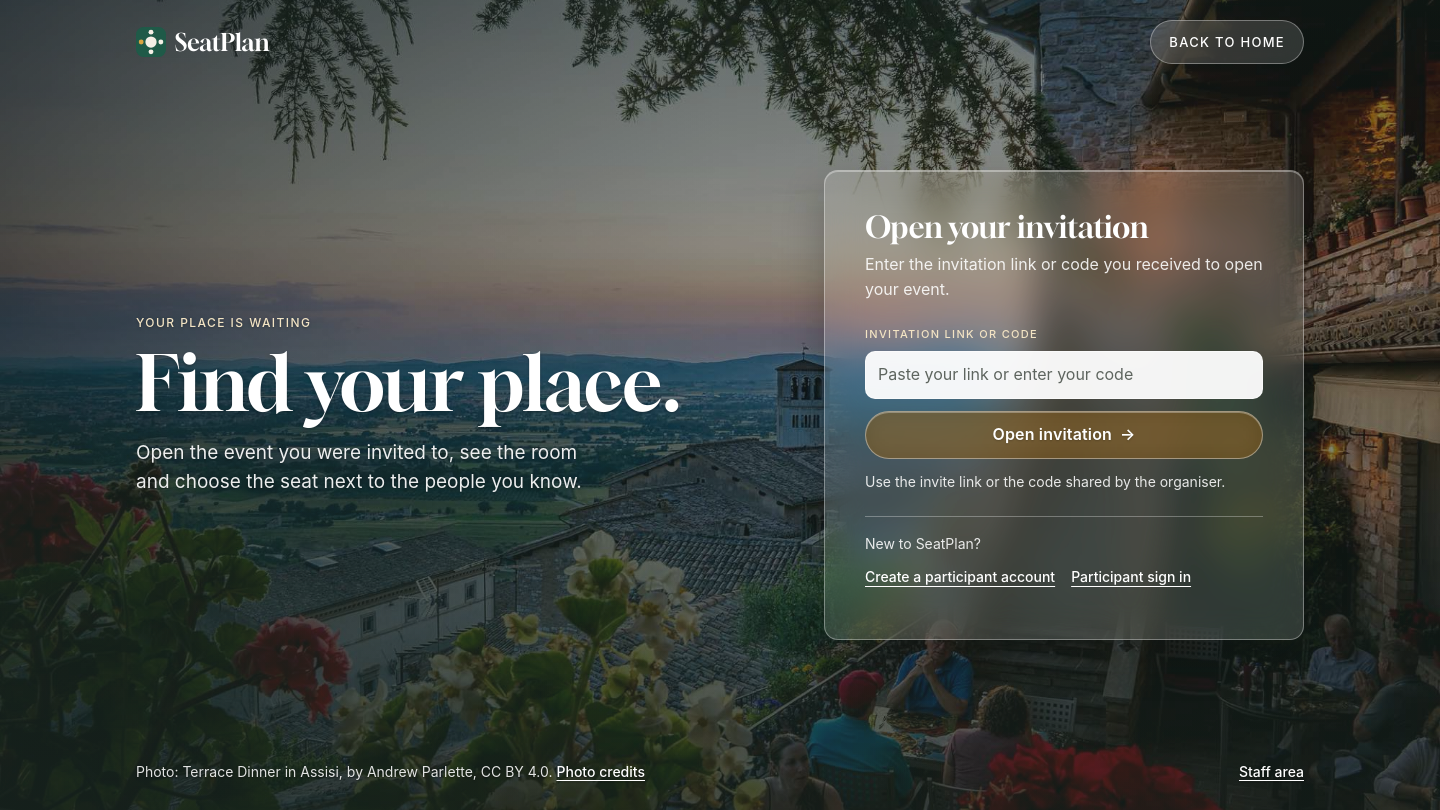
it: Participant entry › opens a shared event from its short invitation code
This screenshot has width=1440, height=810.
Step 1. Type "abc_123" into the field labelled "Invitation link or code" → (1064, 375), box [865, 351, 1263, 399]
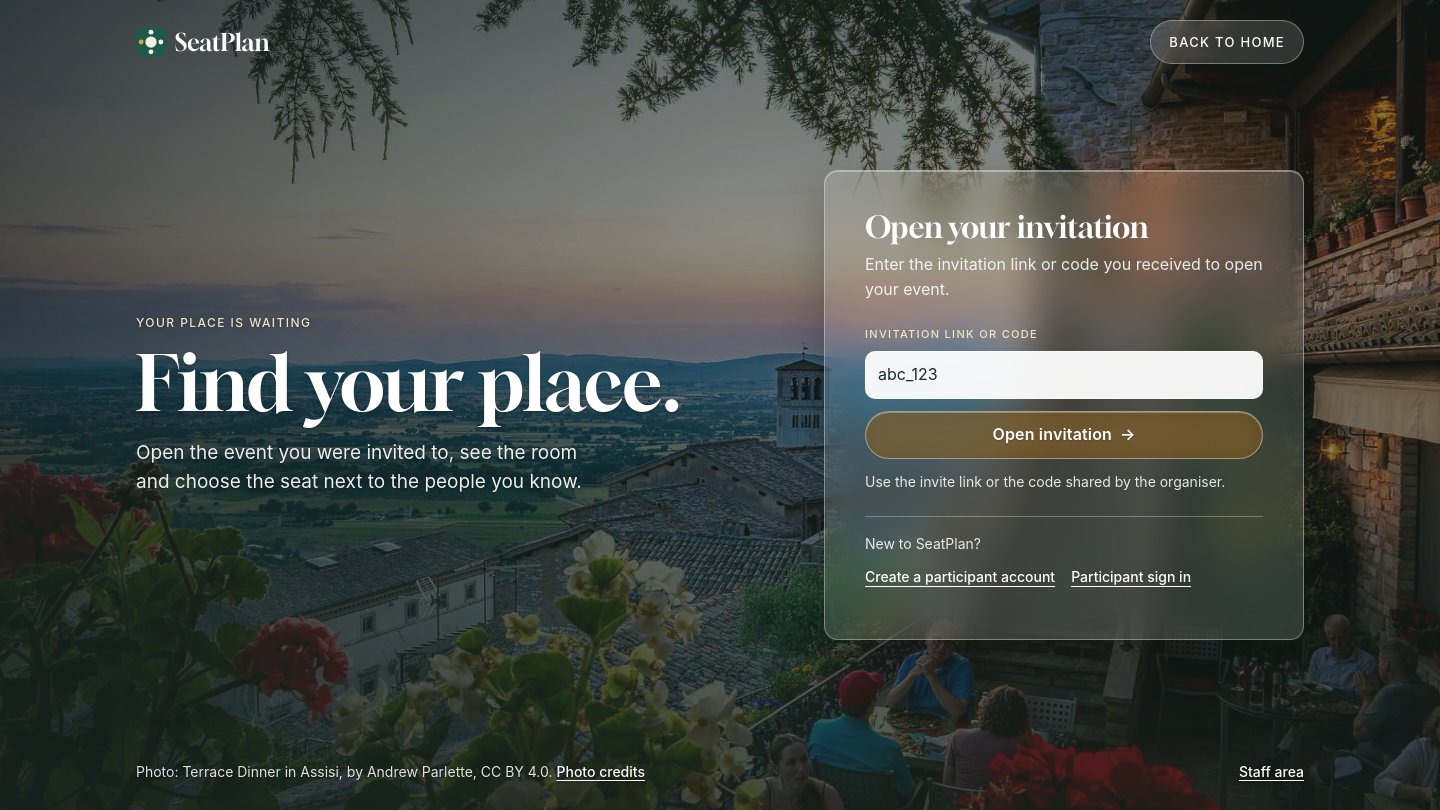
Step 2. Click the button "Open invitation →" → (1064, 435), box [865, 411, 1263, 459]
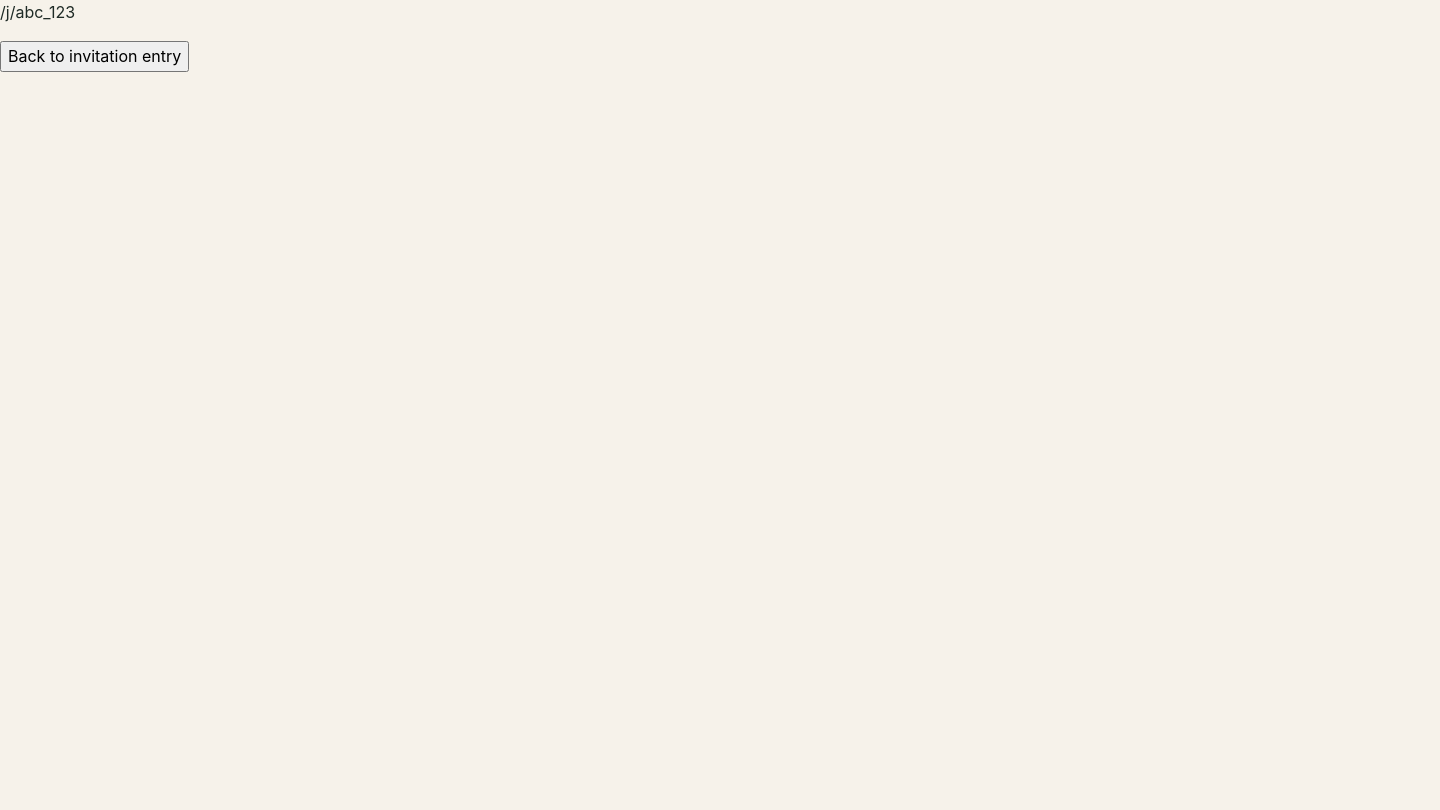
Result: the text with test id "opened-path" reads "/j/abc_123" at [0, 2, 75, 22]
